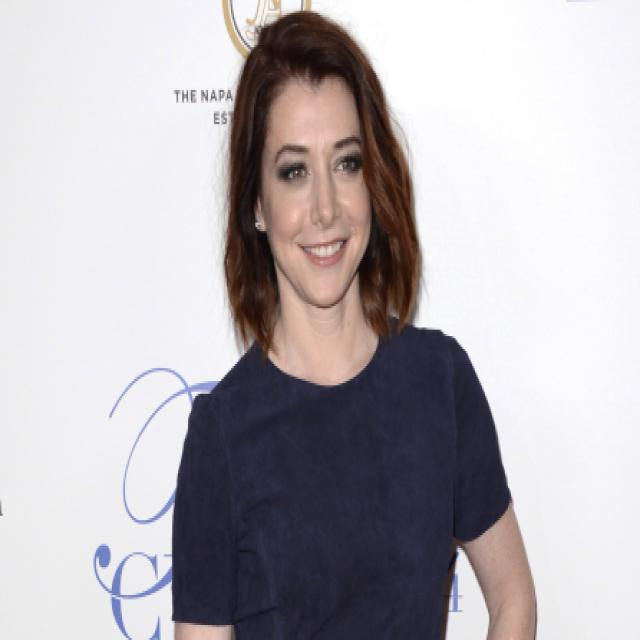human: (162, 10, 539, 640)
